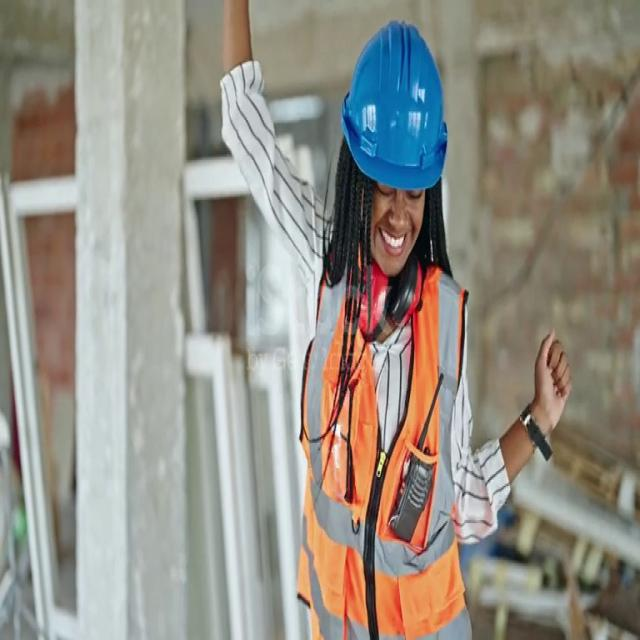capacete: (338, 10, 454, 210)
